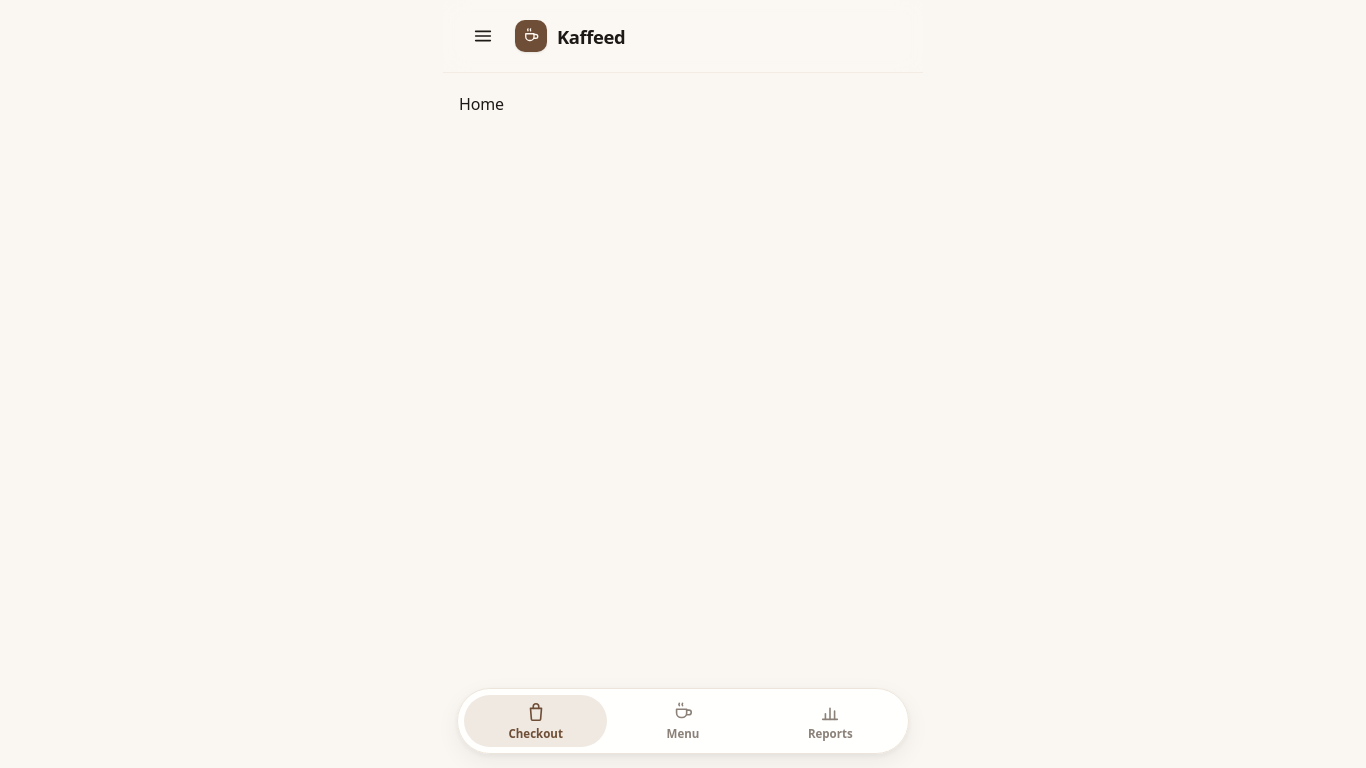
Test: Layout admin PIN gate › opens the admin sidebar with the correct PIN and stays unlocked
The width and height of the screenshot is (1366, 768).
Click the button named "open admin menu" at point(483, 36), box [463,16,503,56]
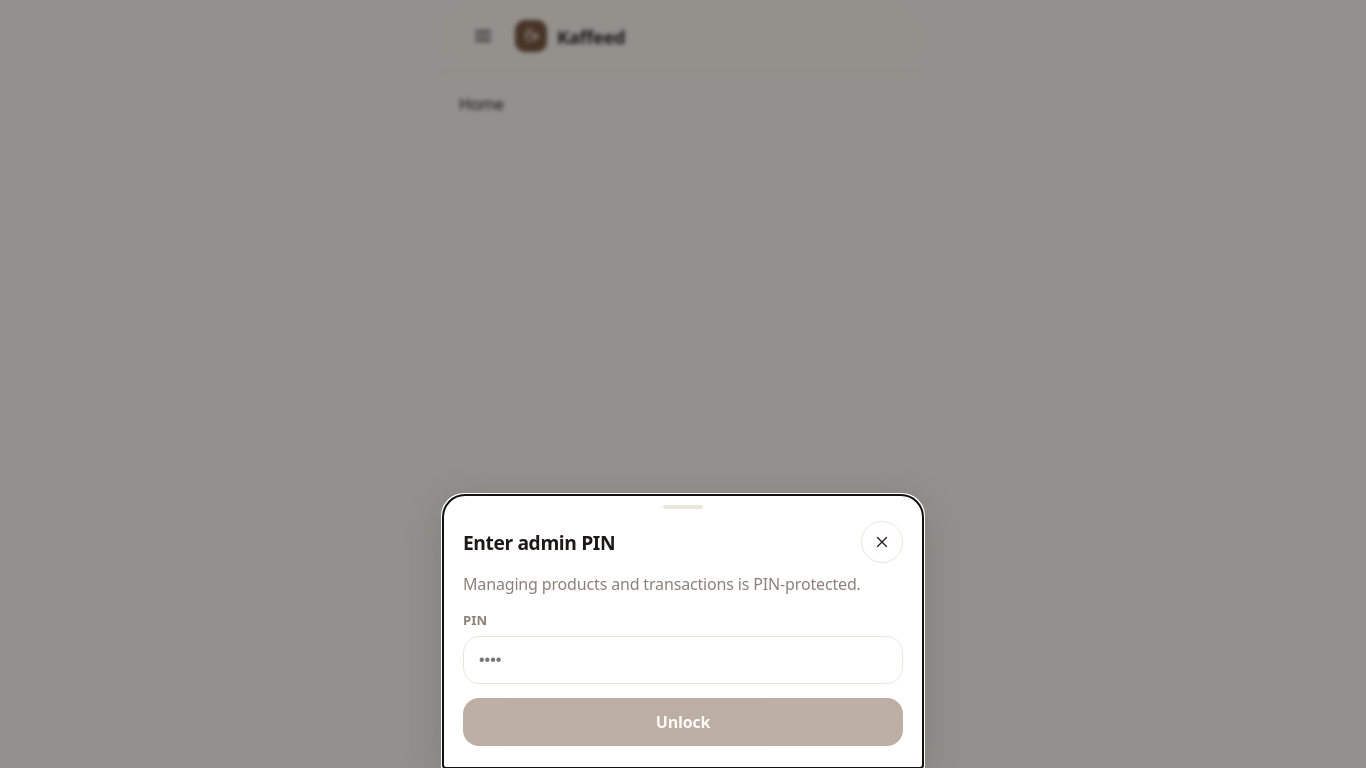
Type "1234" into the password field labelled "PIN" at point(683, 660), box [463,636,903,684]
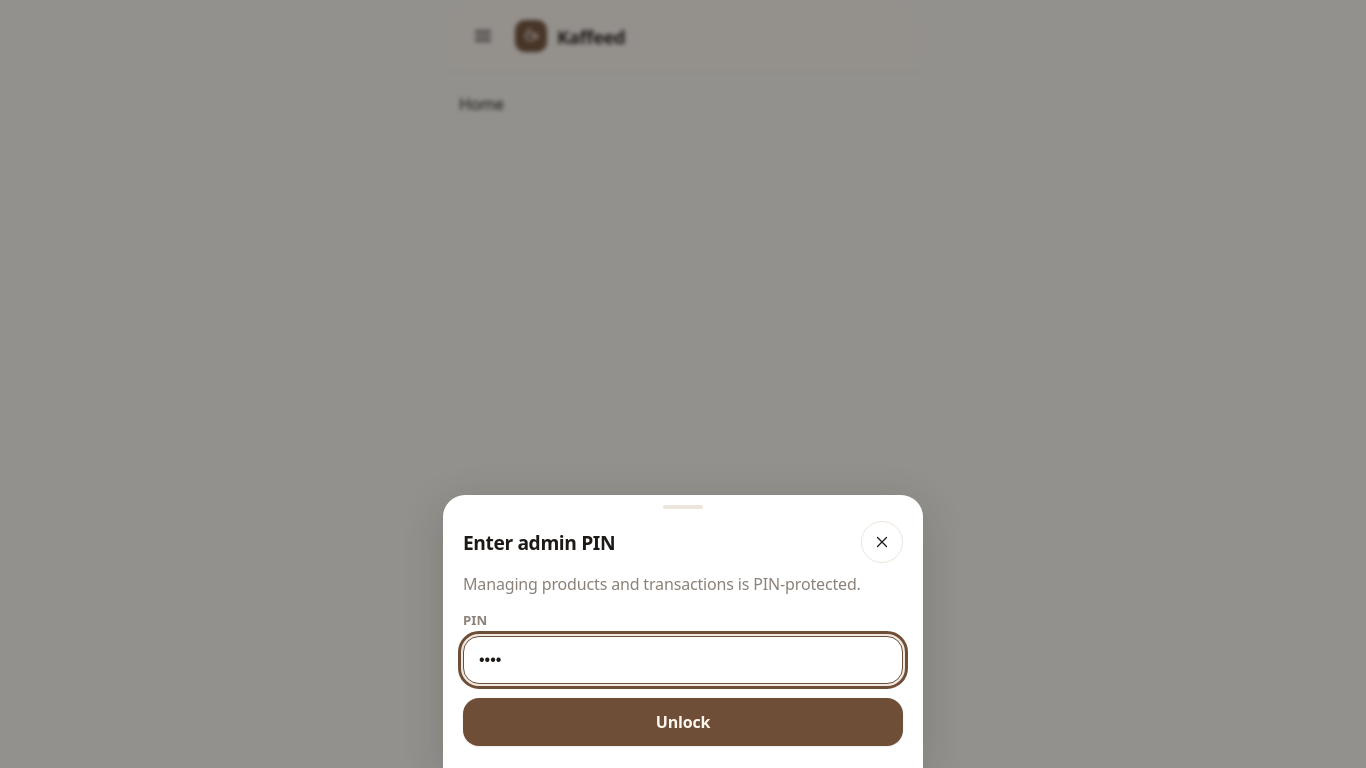
Click the button "Unlock" at point(683, 722), box [463,698,903,746]
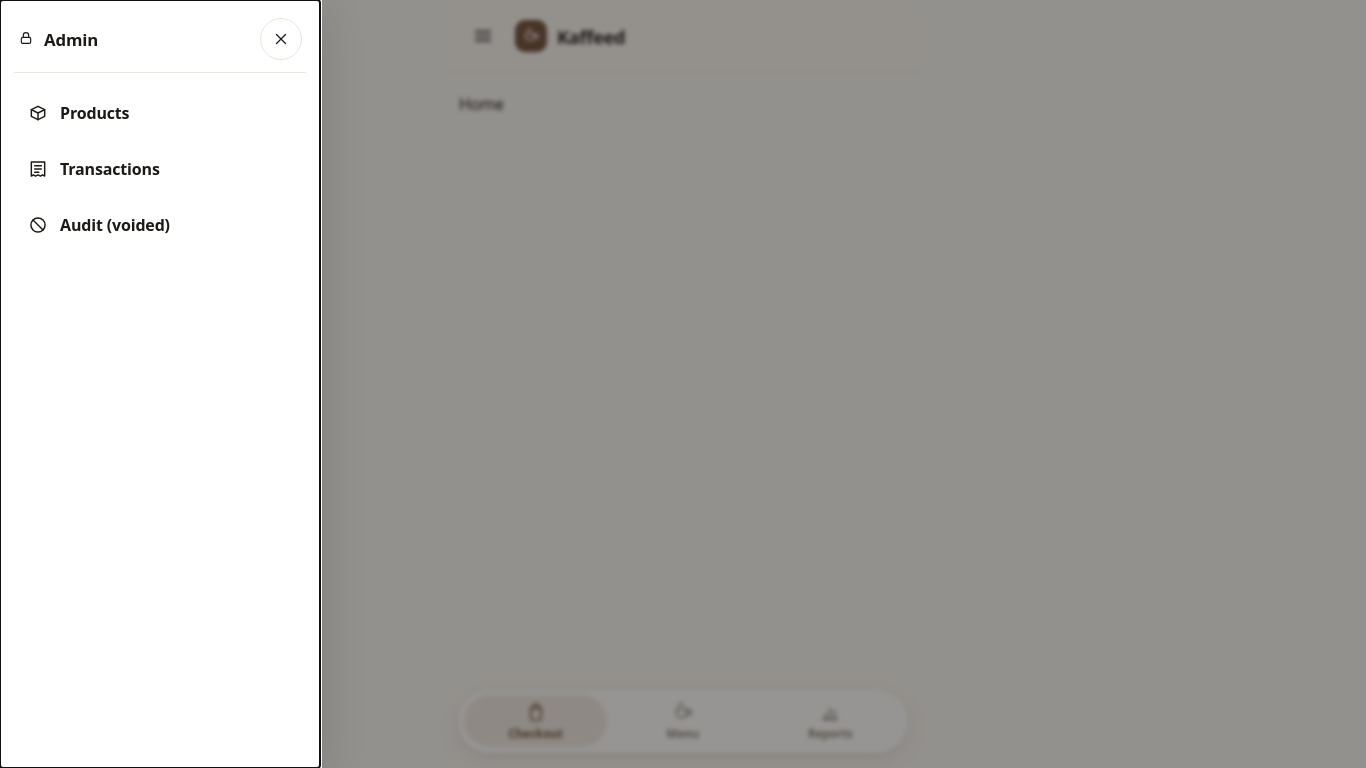
Check: the link "Products" is shown, box [28,102,129,124]
Check: the link "Transactions" is shown, box [28,158,160,180]
Check: the dialog named "admin menu" is shown, box [0,0,320,767]
Note: Close, reopen → no PIN prompt this session, sidebar opens directly.
Click the button named "close admin menu" at point(281, 39), box [260,18,302,60]
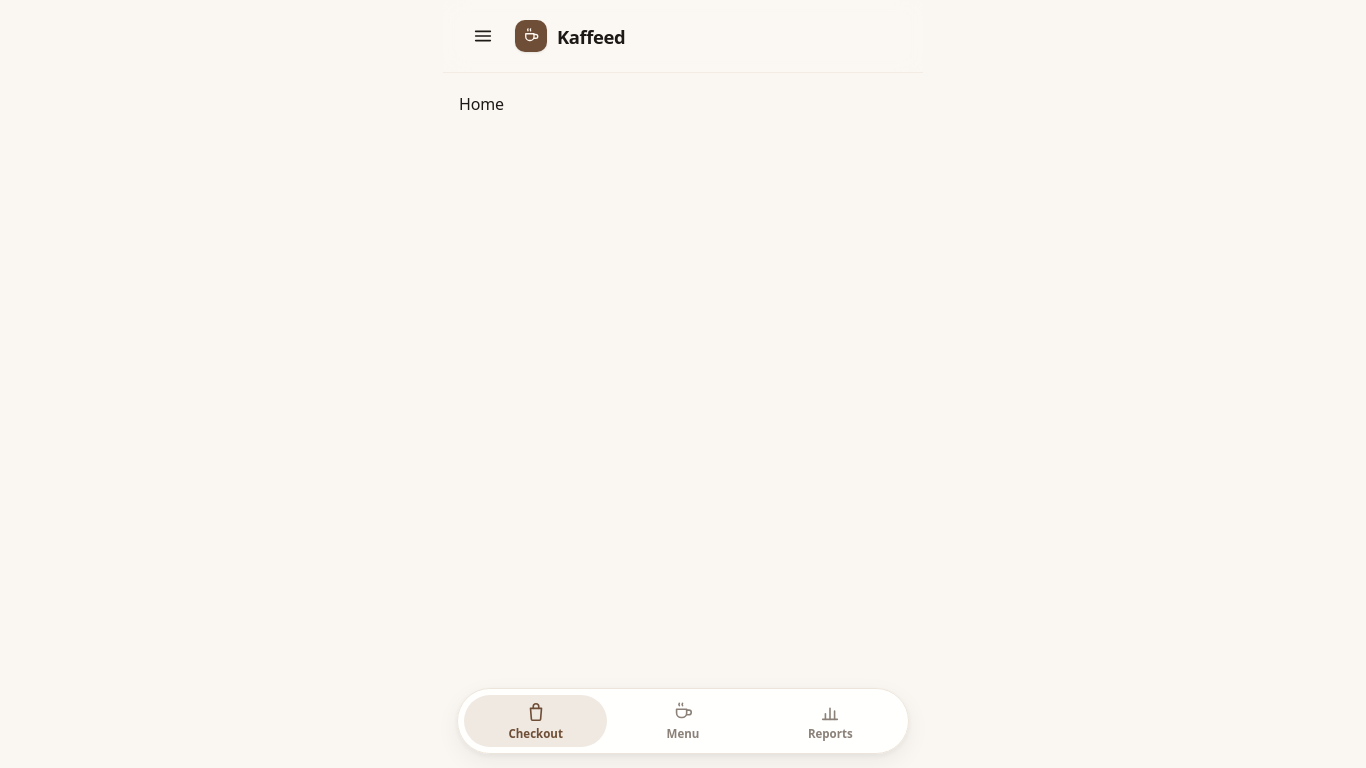
Click the button named "open admin menu" at point(483, 36), box [463,16,503,56]
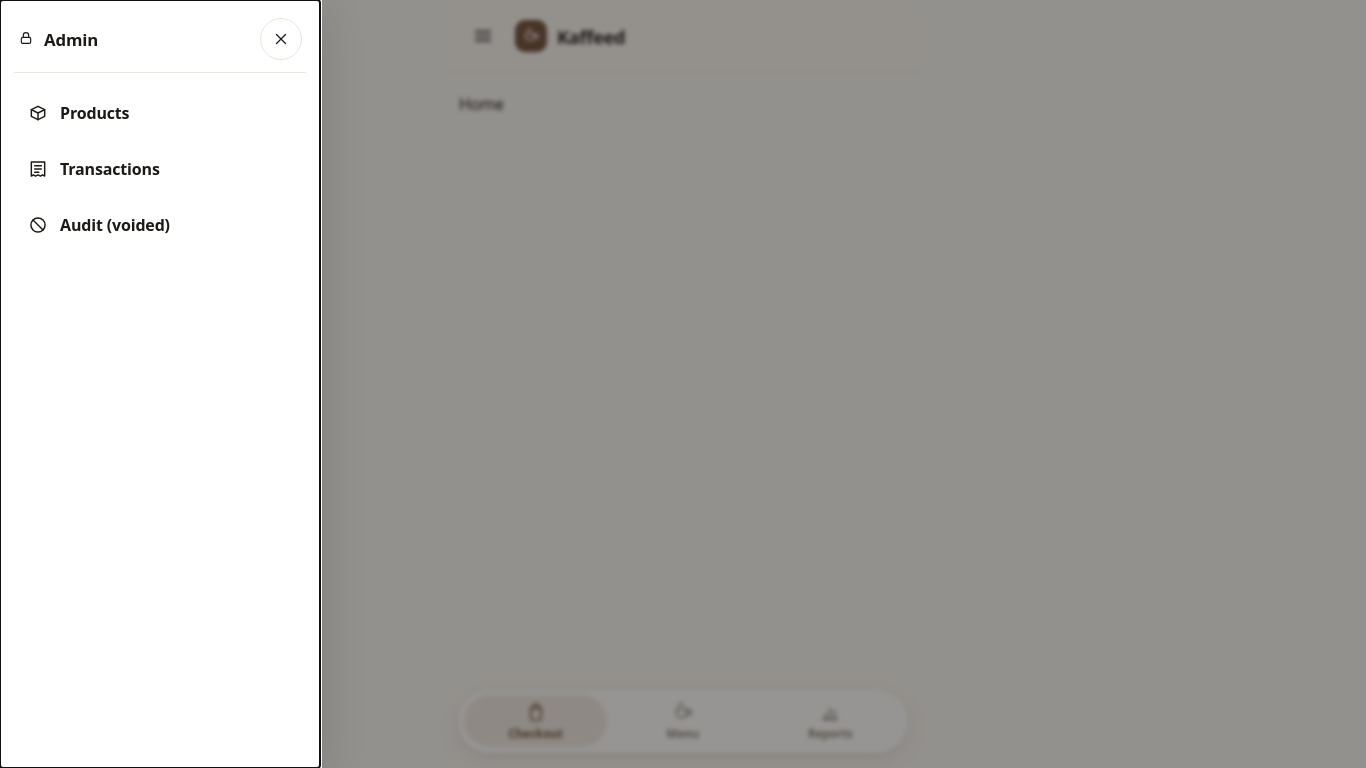
Check: the heading "Enter admin PIN" is not shown
Check: the dialog named "admin menu" is shown, box [0,0,320,767]
